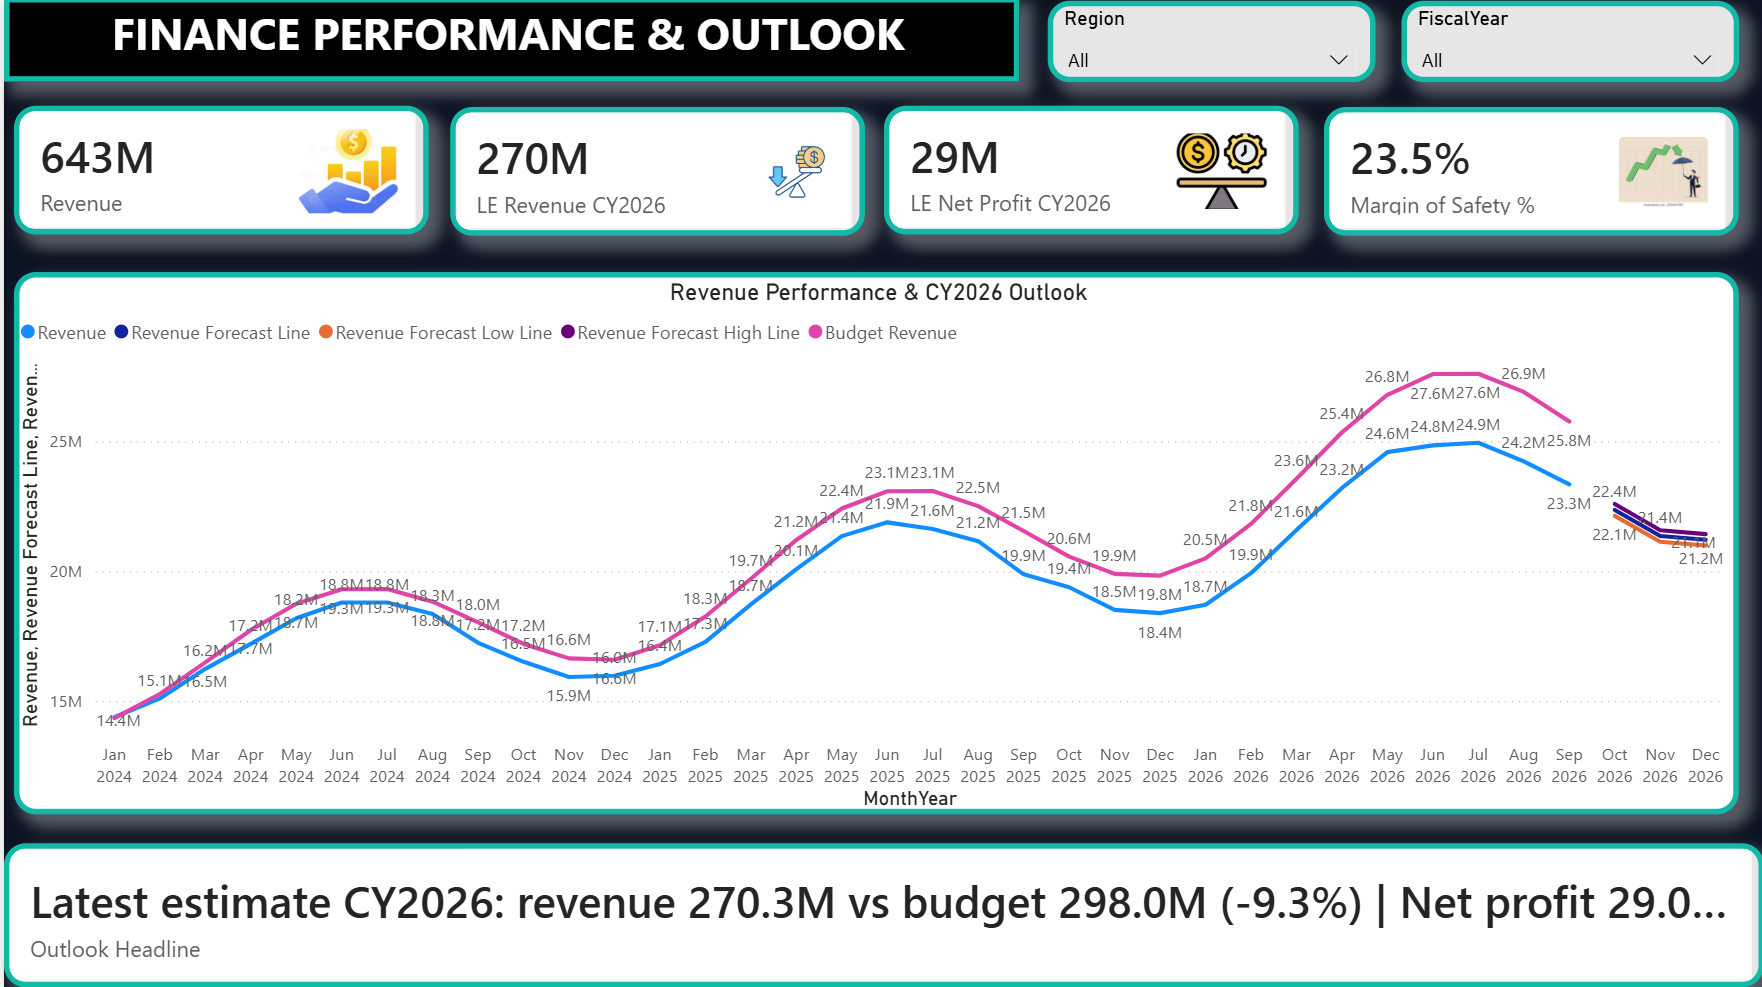

This screenshot's page, from the dashboard's own definition file:
{"tool":"powerbi","page":{"name":"Forecast and Outlook","canvas":[1280,720],"ordinal":3},"visuals":[{"type":"cardVisual","fields":{"Data":["_Measures.Revenue"]},"box":[7.3,79.1,301.8,93.6],"z":0},{"type":"cardVisual","fields":{"Data":["_Measures.LE Revenue CY2026"]},"box":[324.5,80,301.8,93.6],"z":1000},{"type":"cardVisual","fields":{"Data":["_Measures.LE Net Profit CY2026"]},"box":[640,79.1,301.8,93.6],"z":2000},{"type":"cardVisual","fields":{"Data":["_Measures.Margin of Safety %"]},"box":[960,80,301.8,93.6],"z":3000},{"type":"cardVisual","fields":{"Data":["_Measures.Outlook Headline"]},"box":[0,615.5,1280,104.5],"z":7000},{"type":"textbox","box":[0,0,738.2,61.8],"z":7001},{"type":"slicer","fields":{"Values":["DimDate.FiscalYear"]},"box":[1016.4,2.7,245.5,59.1],"z":7002},{"type":"slicer","fields":{"Values":["DimRegion.Region"]},"box":[759.1,2.7,238.2,59.1],"z":7003},{"type":"lineChart","title":"Revenue Performance & CY2026 Outlook","fields":{"Category":["DimDate.MonthYear"],"Y":["_Measures.Revenue","_Measures.Revenue Forecast Line","_Measures.Revenue Forecast Low Line","_Measures.Revenue Forecast High Line","_Measures.Budget Revenue"]},"box":[7.3,200,1254.5,394.5],"z":7004}]}

Visuals, with their boxes in screenshot pixels (x1, y1, x2, y2), scaled from the page's 1280x720 canvas onto the 1762x987 screenshot:
cardVisual - _Measures.Revenue: select_region(10, 108, 425, 237)
cardVisual - _Measures.LE Revenue CY2026: select_region(447, 110, 862, 238)
cardVisual - _Measures.LE Net Profit CY2026: select_region(881, 108, 1296, 237)
cardVisual - _Measures.Margin of Safety %: select_region(1322, 110, 1737, 238)
cardVisual - _Measures.Outlook Headline: select_region(0, 844, 1761, 986)
textbox: select_region(0, 0, 1016, 85)
slicer - DimDate.FiscalYear: select_region(1399, 4, 1737, 85)
slicer - DimRegion.Region: select_region(1045, 4, 1373, 85)
"Revenue Performance & CY2026 Outlook" lineChart: select_region(10, 274, 1737, 815)
